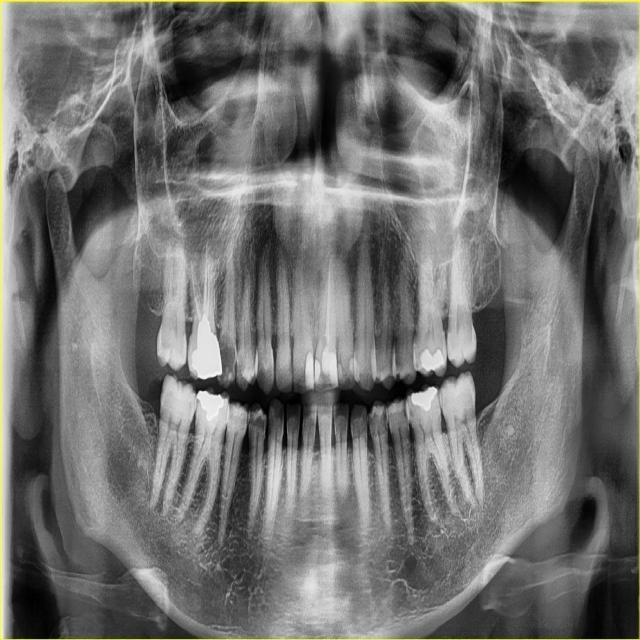74: (187, 260, 202, 322), (203, 242, 211, 315), (204, 257, 212, 319), (327, 258, 332, 350)
NucleOSS Implant: (188, 311, 222, 381), (188, 385, 227, 424), (409, 379, 443, 414), (416, 344, 446, 375)
Sterngold Implant: (218, 332, 235, 380), (236, 352, 246, 381), (379, 404, 389, 431), (369, 414, 376, 431), (249, 415, 256, 432), (406, 405, 414, 419), (190, 399, 197, 414), (160, 382, 166, 397), (402, 402, 406, 416)
Straumann Implant: (321, 345, 338, 390), (304, 351, 314, 389), (336, 359, 349, 383), (314, 358, 322, 386), (353, 354, 361, 382), (348, 356, 354, 379)
